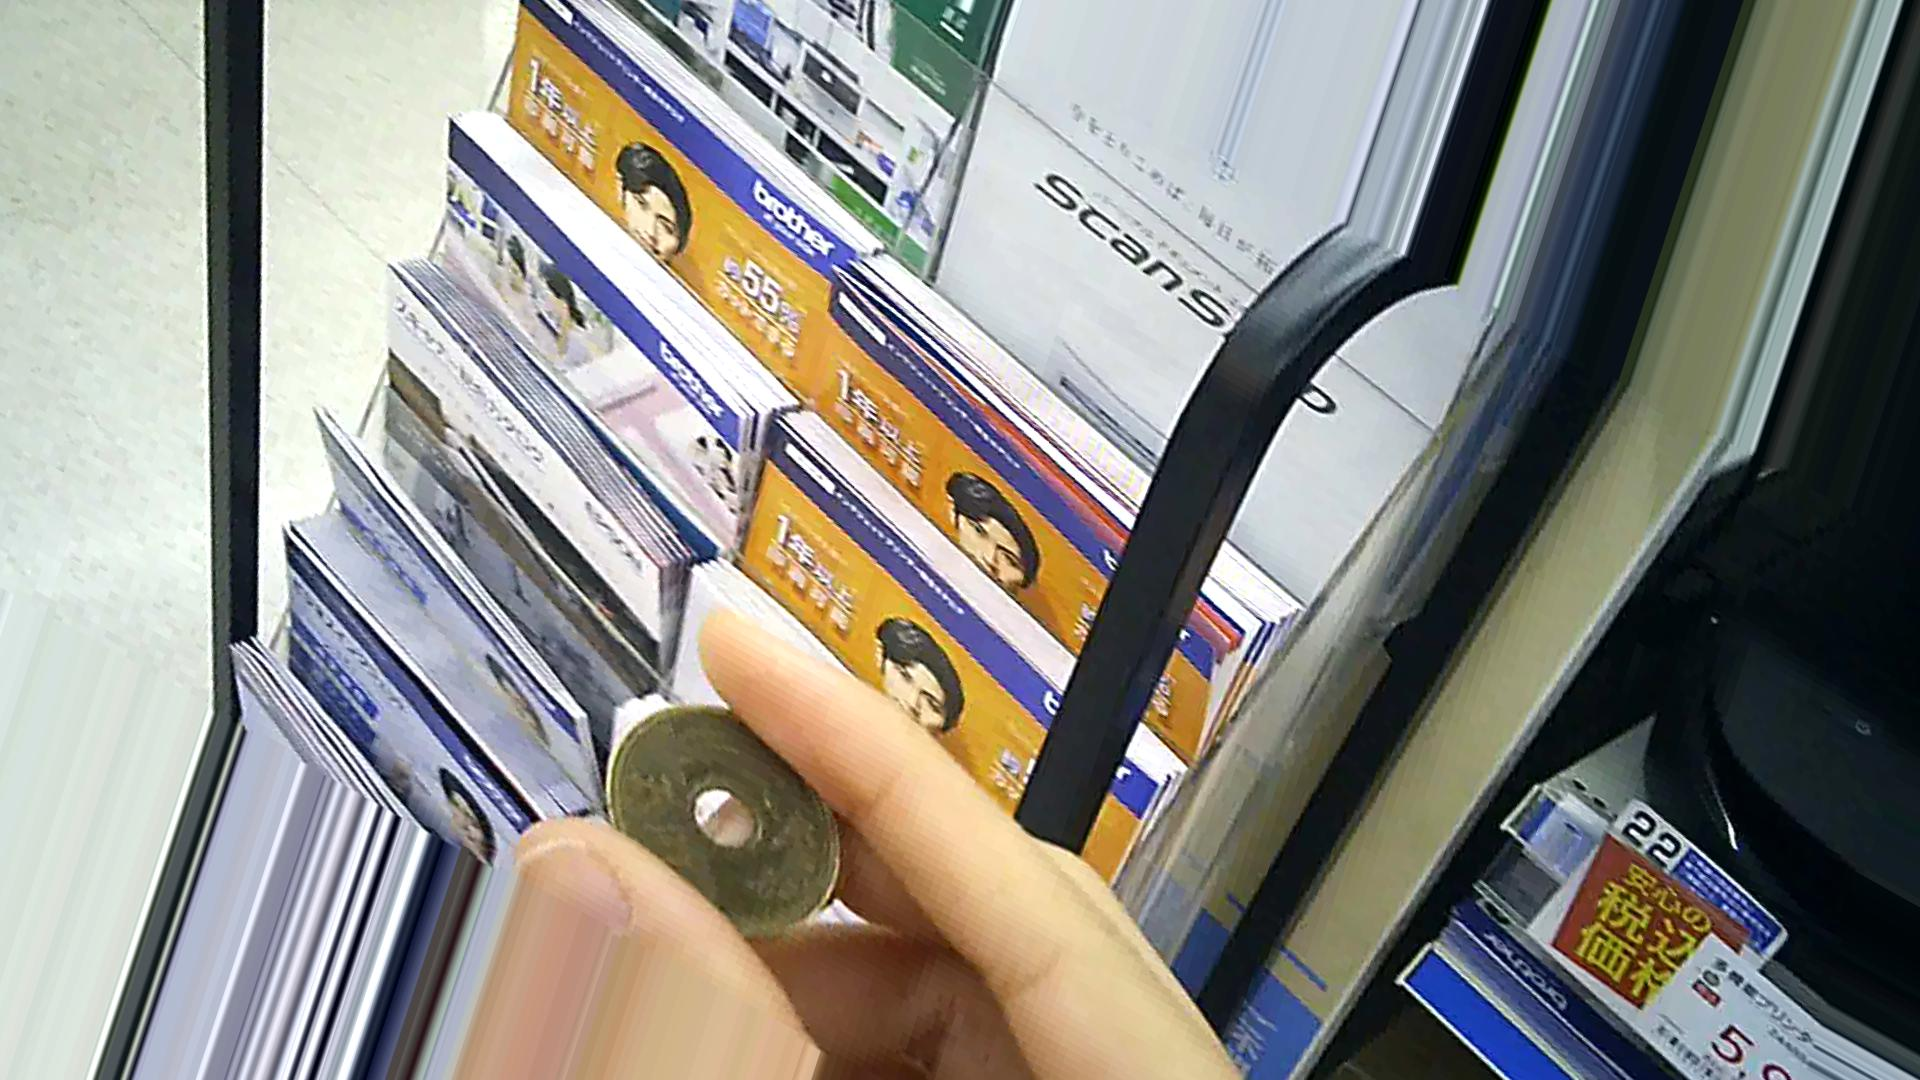5 Yen: (609, 704, 843, 947)
